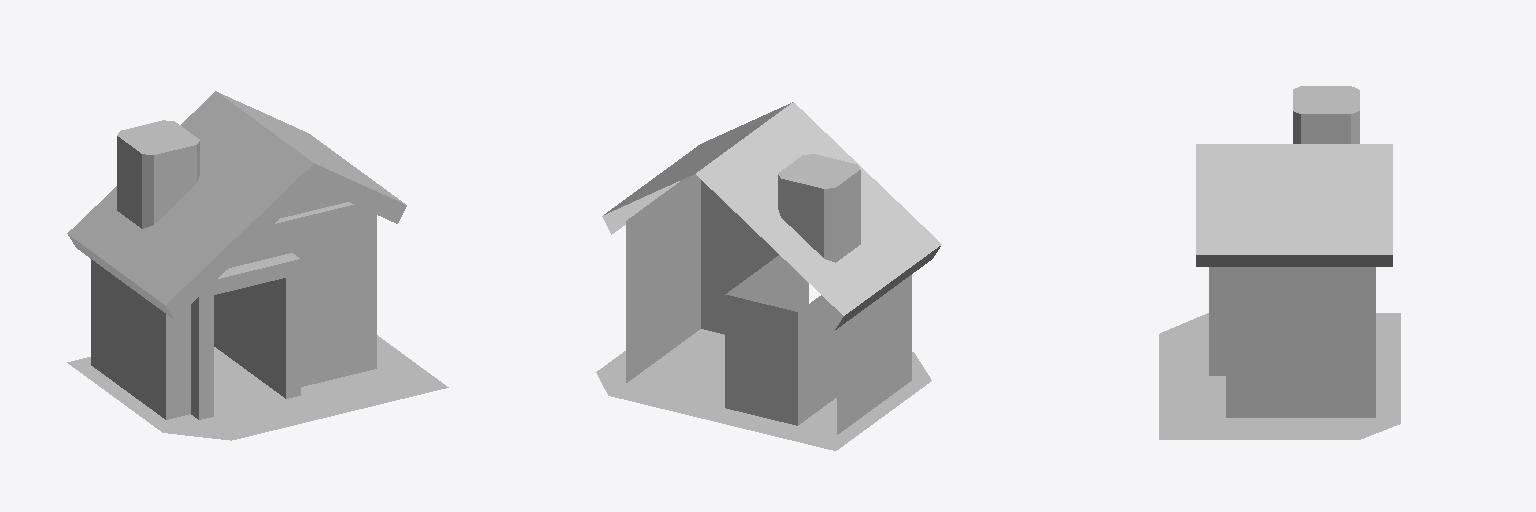
File: Pewter City House.obj
3 views of the same model, side by side, from view 1: azimuth 30°, elevation 25°; view 2: azimuth 150°, elevation 25°; view 3: azimuth 270°, elevation 25° (orthographic).
Parts seen in each view (by area): view 1: polygon3, polygon2, polygon1, polygon0; view 2: polygon3, polygon1, polygon2; view 3: polygon3, polygon2.
Boxes of the visible parts, box(x1,y1,x2,y2) form: polygon3: box(67, 91, 406, 419); polygon2: box(67, 160, 448, 440); polygon1: box(214, 280, 277, 403); polygon0: box(310, 242, 363, 319); polygon3: box(602, 102, 941, 434); polygon1: box(725, 255, 843, 425); polygon2: box(596, 194, 931, 450); polygon3: box(1196, 86, 1392, 417); polygon2: box(1159, 313, 1400, 439).
Bounding box in the file's own units: 73 × 63 × 58.